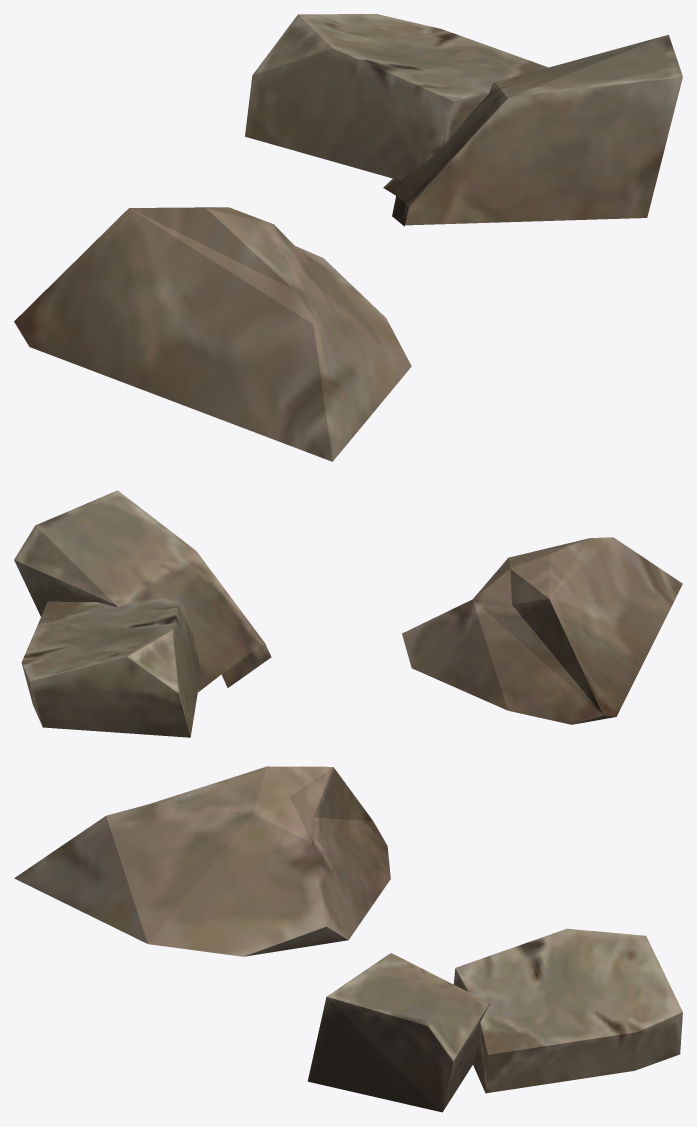
The model's file is nashgar_rubble_ruinswall_a02.FBX.
3 views of the same model, one above another, from view 1: azimuth 30°, elevation 25°; view 2: azimuth 150°, elevation 25°; view 3: azimuth 270°, elevation 25° (orthographic). The views are drawn at different scales.
Visible parts, largest first — view 1: nashgar_rubble_ruinswall_a02; view 2: nashgar_rubble_ruinswall_a02; view 3: nashgar_rubble_ruinswall_a02.
Part boxes in pixels (left/top/right/bottom): nashgar_rubble_ruinswall_a02: left=14, top=14, right=682, bottom=461; nashgar_rubble_ruinswall_a02: left=14, top=490, right=682, bottom=737; nashgar_rubble_ruinswall_a02: left=14, top=766, right=682, bottom=1112.
Size of the model in its own units: 2.52 by 0.5568 by 2.44.
